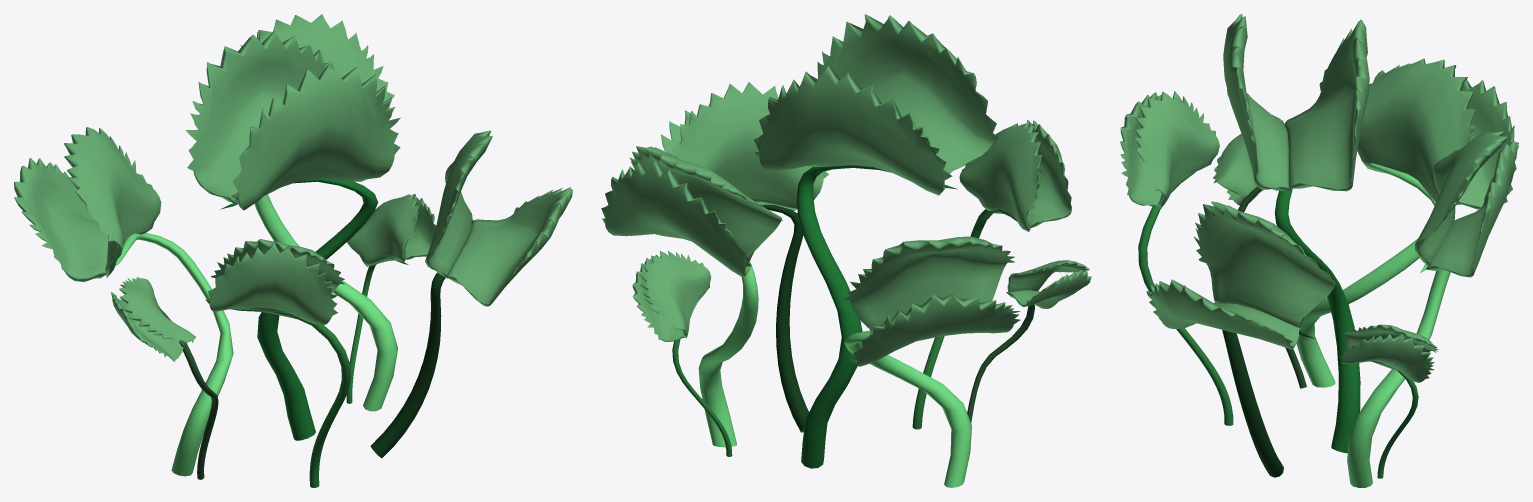
Rendered from venusflytrap 1.fbx.
The picture shows the model from 3 angles, left to right: view 1: azimuth 30°, elevation 25°; view 2: azimuth 150°, elevation 25°; view 3: azimuth 270°, elevation 25°; orthographic projection.
Parts seen in each view (by area): view 1: Flytrap5Trap2, Flytrap5Trap1, Flytrap1Trap1, Flytrap6Trap2, Flytrap1Trap2, Flytrap7Trap2, Flytrap5Stem, Flytrap1Stem, Flytrap6Trap1, Flytrap2Stem, Flytrap2Trap1, Flytrap3Trap1 (+8 smaller); view 2: Flytrap5Trap1, Flytrap5Trap2, Flytrap1Trap1, Flytrap6Trap1, Flytrap2Trap2, Flytrap5Stem, Flytrap1Trap2, Flytrap7Trap1, Flytrap2Trap1, Flytrap3Trap1, Flytrap2Stem, Flytrap1Stem (+9 smaller); view 3: Flytrap1Trap1, Flytrap6Trap1, Flytrap5Trap1, Flytrap7Trap1, Flytrap5Trap2, Flytrap6Trap2, Flytrap2Trap1, Flytrap2Trap2, Flytrap5Stem, Flytrap2Stem, Flytrap1Stem, Flytrap1Trap2 (+8 smaller).
Boxes of the visible parts, <box> form: Flytrap5Trap2: <box>231,65,400,210</box>; Flytrap5Trap1: <box>186,31,334,202</box>; Flytrap1Trap1: <box>64,127,161,277</box>; Flytrap6Trap2: <box>448,187,572,306</box>; Flytrap1Trap2: <box>14,158,124,282</box>; Flytrap7Trap2: <box>205,243,337,325</box>; Flytrap5Stem: <box>220,178,377,440</box>; Flytrap1Stem: <box>115,233,233,476</box>; Flytrap6Trap1: <box>425,130,492,278</box>; Flytrap2Stem: <box>254,194,397,411</box>; Flytrap2Trap1: <box>258,14,394,109</box>; Flytrap3Trap1: <box>347,194,419,266</box>; Flytrap5Trap1: <box>754,65,952,195</box>; Flytrap5Trap2: <box>811,14,998,173</box>; Flytrap1Trap1: <box>843,236,1014,330</box>; Flytrap6Trap1: <box>672,82,828,209</box>; Flytrap2Trap2: <box>601,161,751,277</box>; Flytrap5Stem: <box>796,165,957,468</box>; Flytrap1Trap2: <box>850,293,1020,366</box>; Flytrap7Trap1: <box>959,122,1042,231</box>; Flytrap2Trap1: <box>629,146,782,262</box>; Flytrap3Trap1: <box>639,251,711,338</box>; Flytrap2Stem: <box>698,261,758,447</box>; Flytrap1Stem: <box>844,330,971,487</box>; Flytrap1Trap1: <box>1357,58,1475,201</box>; Flytrap6Trap1: <box>1194,201,1335,327</box>; Flytrap5Trap1: <box>1284,19,1369,191</box>; Flytrap7Trap1: <box>1134,91,1219,208</box>; Flytrap5Trap2: <box>1223,14,1290,190</box>; Flytrap6Trap2: <box>1146,279,1301,349</box>; Flytrap2Trap1: <box>1415,131,1507,266</box>; Flytrap2Trap2: <box>1426,140,1517,277</box>; Flytrap5Stem: <box>1275,120,1360,453</box>; Flytrap2Stem: <box>1347,264,1450,487</box>; Flytrap1Stem: <box>1296,163,1436,387</box>; Flytrap1Trap2: <box>1456,79,1518,209</box>.
Bounding box in the file's own units: 43.55 × 39.61 × 34.25.
